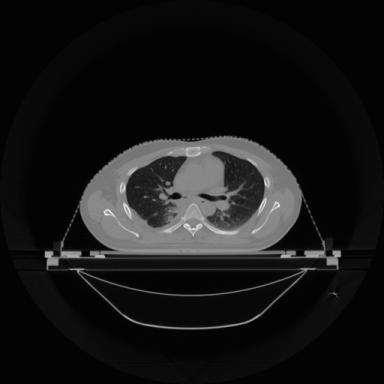body: (81, 136, 302, 252)
cord: (181, 204, 206, 237)
paru kanan: (126, 157, 186, 227)
paru kiri: (207, 152, 264, 229)
